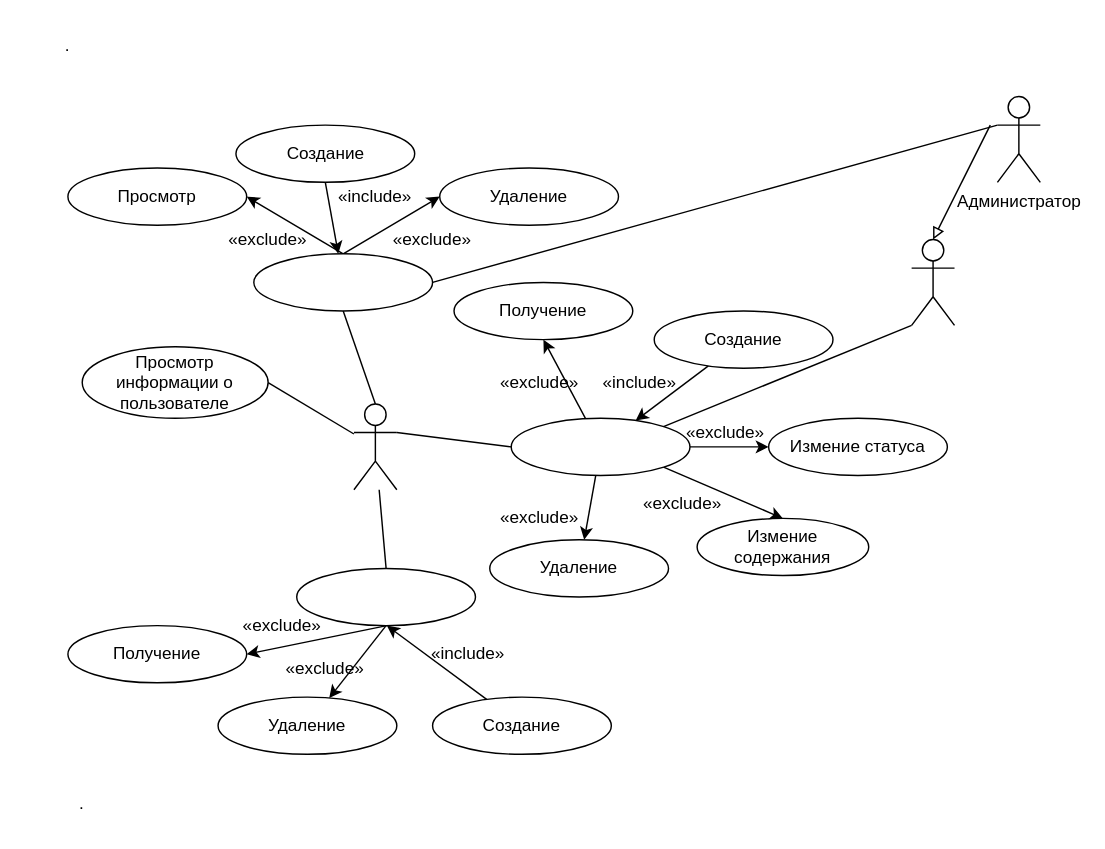
This 1105x849 diagram has some shape labels left out. The centre of each missing label's shape, as x and y in pixels:
Пользователь: pixel 374 446
Работа с категориями: pixel 342 281
Работа с лотами: pixel 600 446
Работа со ставками: pixel 385 596
Сотрудник: pixel 932 281
